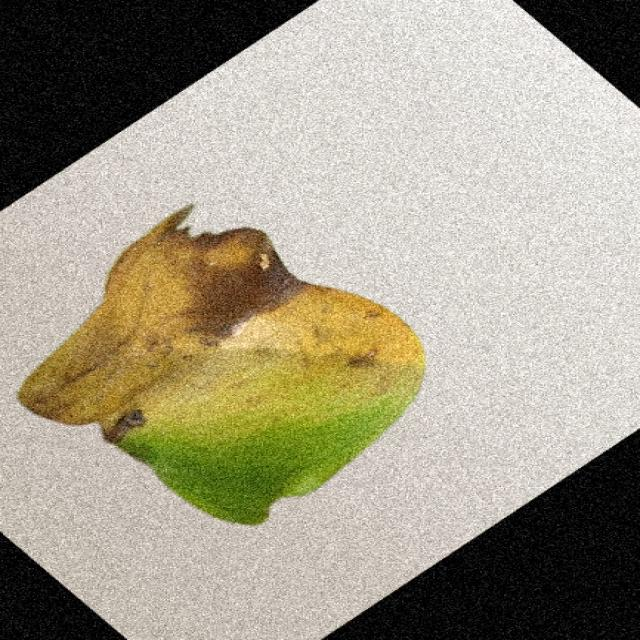daun berpenyakit kuning: (19, 207, 425, 525)
